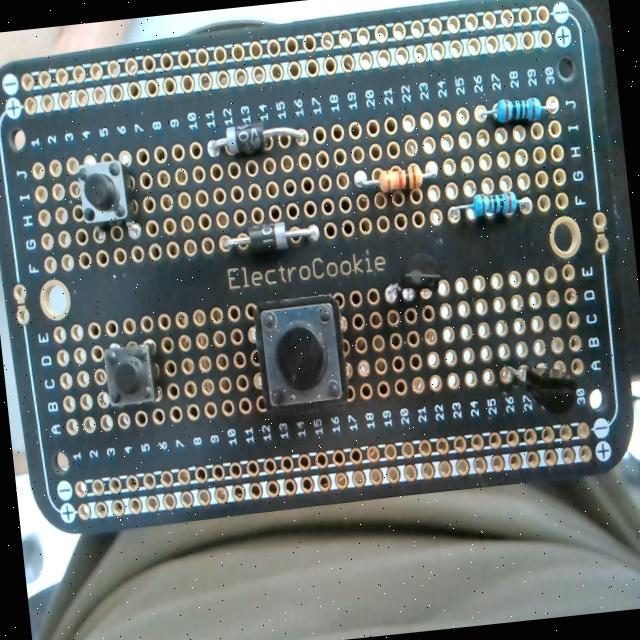diode: (204, 116, 310, 159), (220, 218, 320, 256)
resistor: (354, 160, 436, 197), (477, 92, 558, 126), (448, 188, 528, 222)
switch: (252, 294, 349, 410), (76, 158, 132, 229), (102, 340, 156, 408)
transistor: (490, 342, 584, 422), (375, 248, 450, 310)
